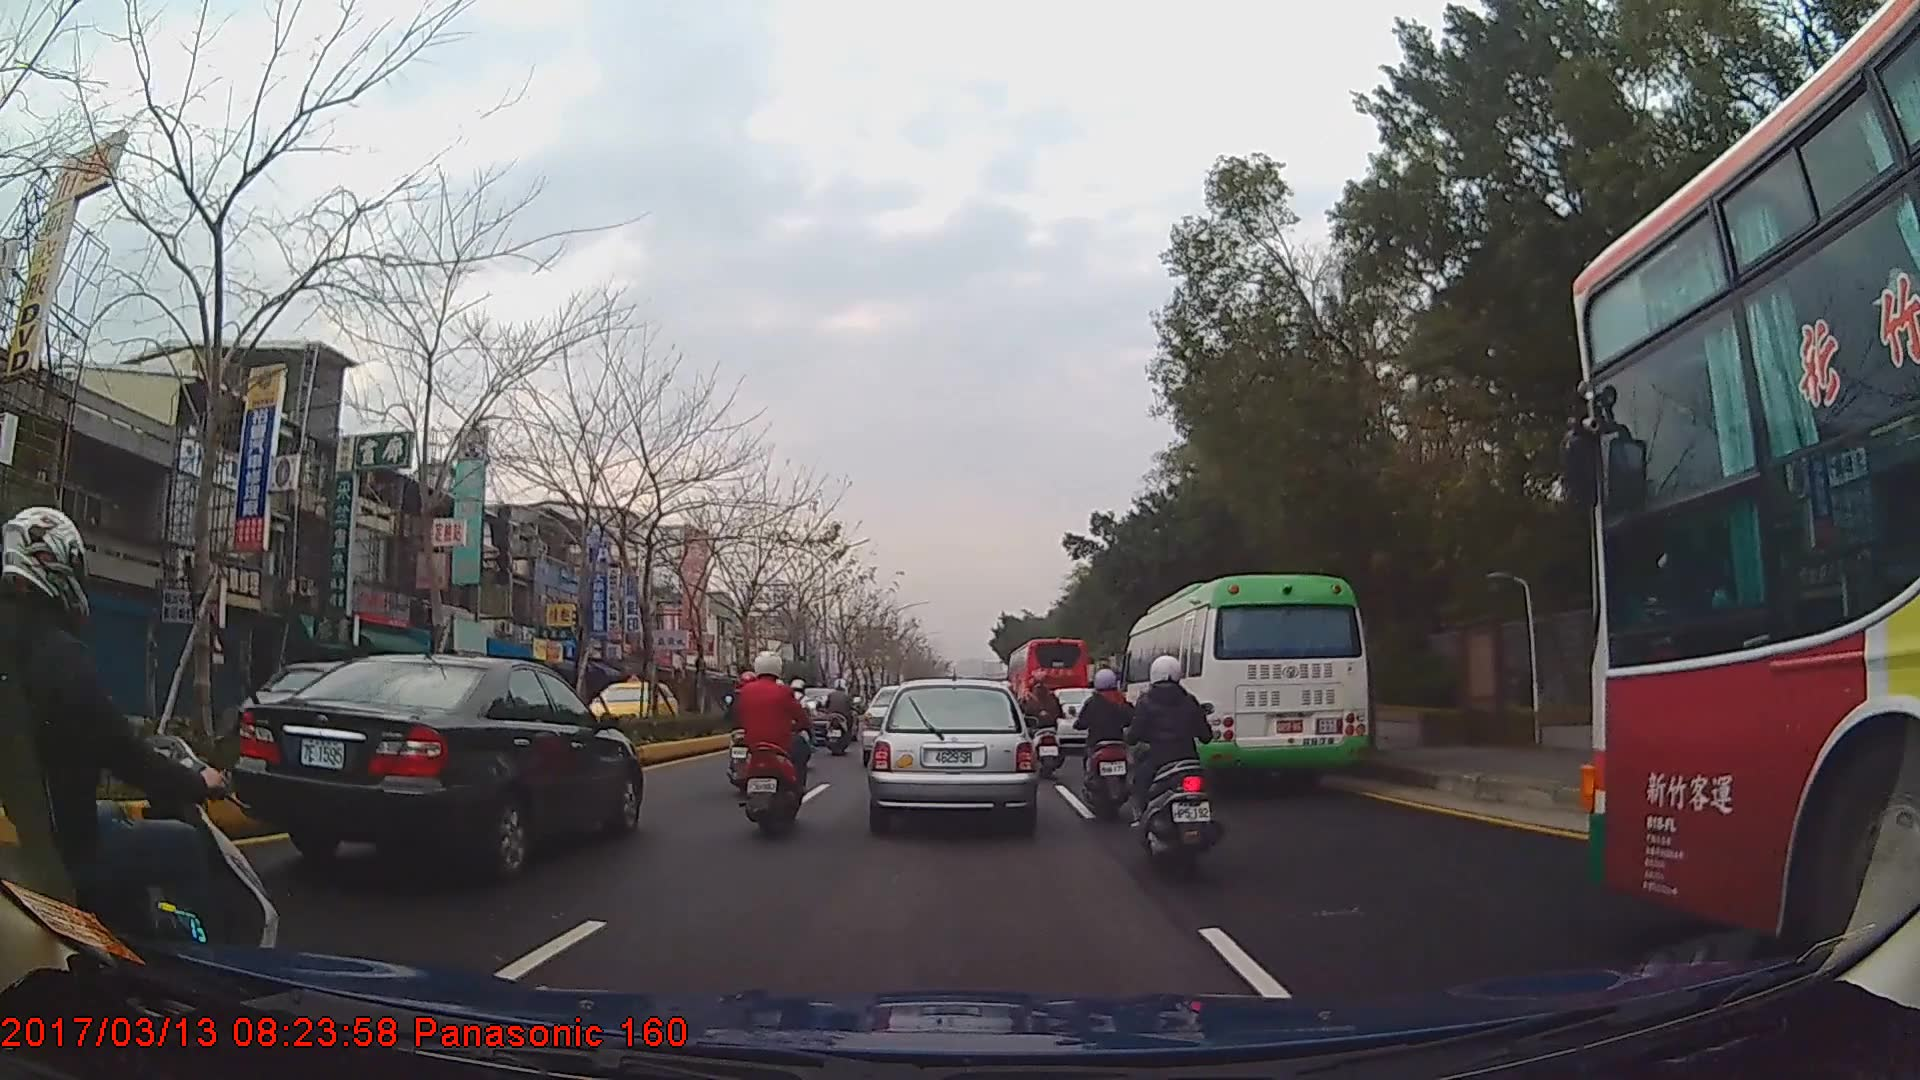rider: (1, 506, 278, 1008), (1132, 652, 1225, 884), (731, 646, 805, 840), (1071, 665, 1139, 820), (1024, 670, 1067, 782), (826, 677, 863, 755)
vehicle: (1566, 0, 1920, 978), (232, 652, 644, 877), (1119, 573, 1373, 790), (871, 678, 1035, 832), (1008, 634, 1092, 730), (582, 671, 685, 735)
